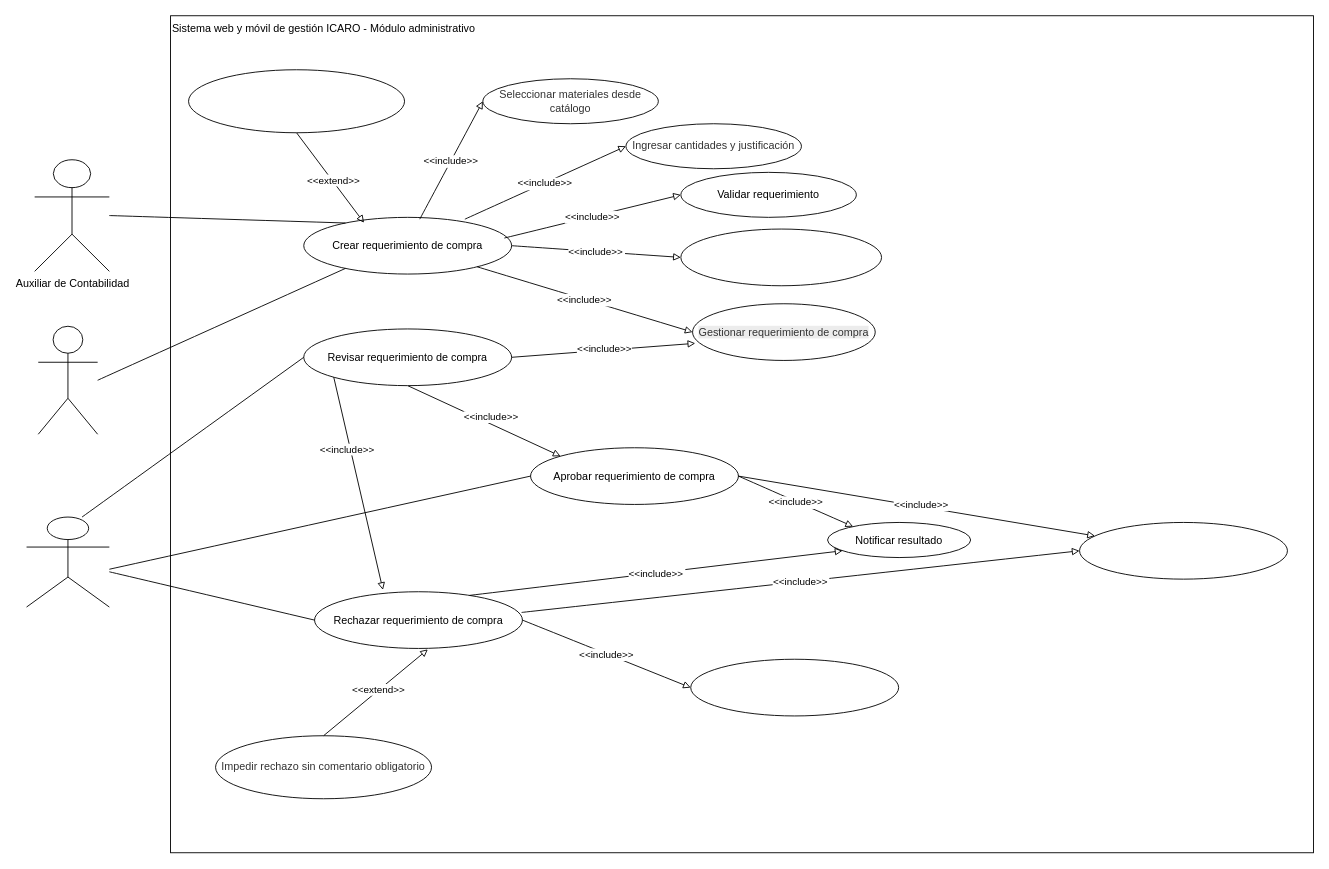
This 1329x869 diagram has some shape labels left out. Here are the shapes that lost their labels. From the top down, the box of each, then its label:
(188, 69, 405, 133): Bloquear guardado por materiales, cantidades o justificación inválida
(680, 228, 882, 286): Guardar requerimiento en estado En Revisión
(37, 325, 98, 434): Residente
(26, 516, 109, 607): Presidente / Gerente
(1079, 522, 1287, 579): Actualizar estado del requerimiento
(690, 658, 899, 716): Registrar comentario de rechazo
